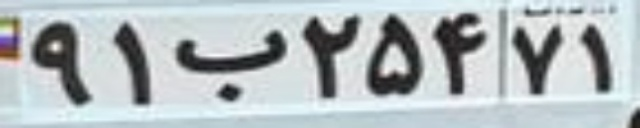1: (112, 20, 151, 104), (579, 23, 611, 92)
2: (300, 14, 361, 98)
4: (432, 13, 487, 94)
5: (367, 14, 421, 96)
7: (510, 22, 566, 94)
9: (35, 22, 94, 105)
be: (174, 30, 290, 102)
